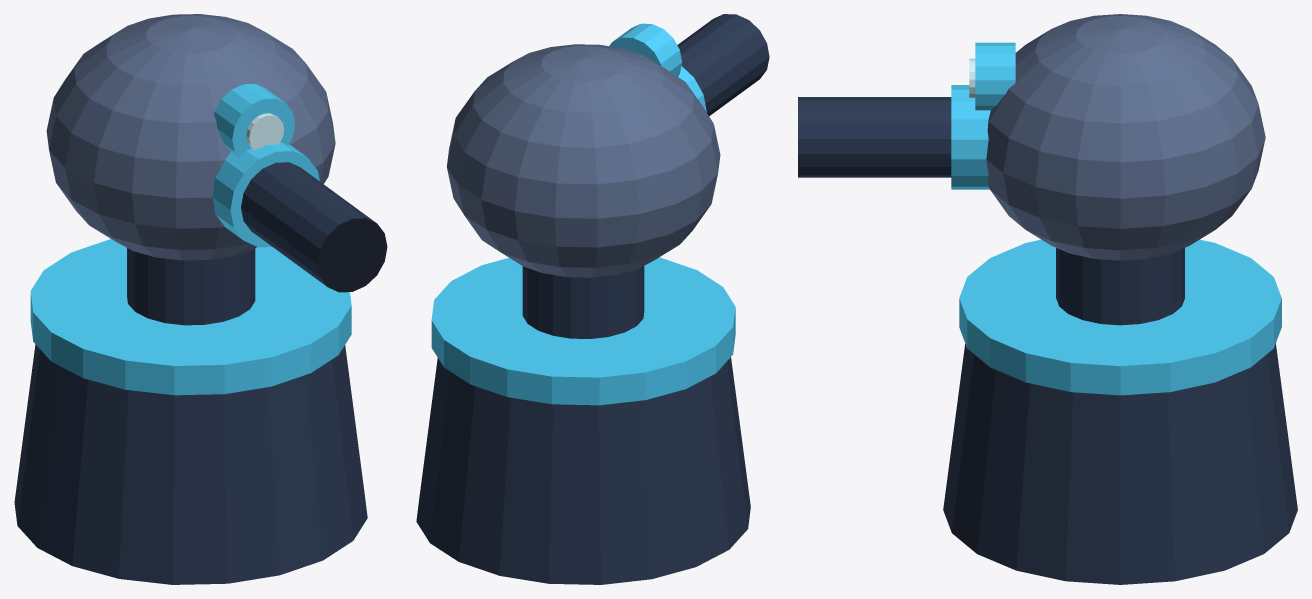
The model's file is sentry.glb.
The picture shows the model from 3 angles, left to right: view 1: azimuth 30°, elevation 25°; view 2: azimuth 150°, elevation 25°; view 3: azimuth 270°, elevation 25°; orthographic projection. The views are drawn at different scales.
Parts seen in each view (by area): view 1: plat; view 2: plat; view 3: plat.
Boxes of the visible parts, <box> form: plat: <box>14,14,387,584</box>; plat: <box>416,14,769,584</box>; plat: <box>798,14,1297,584</box>.
Size of the model in its own units: 0.88 by 1.32 by 1.24.
1 material, 1 textured.
